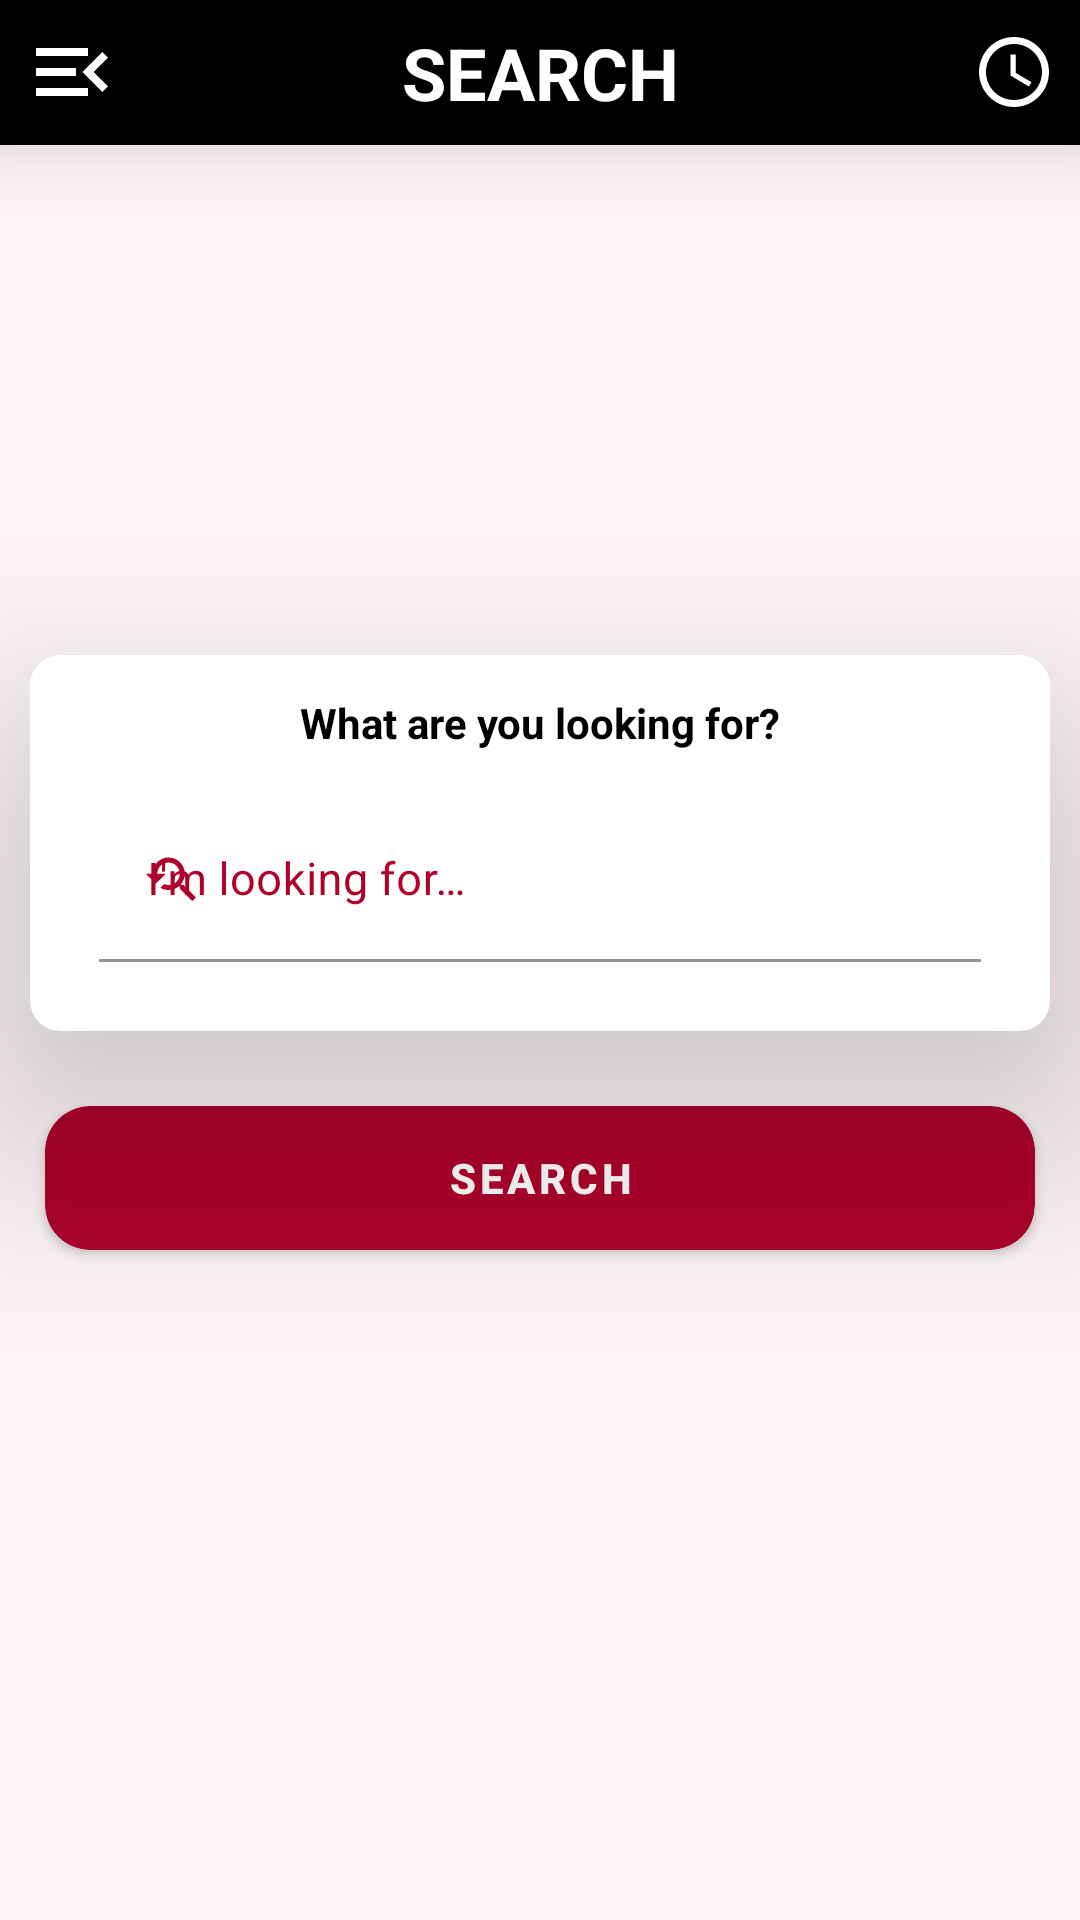

Point at icon controls on the screen. Image size 1080 x 1920, points as [x,y].
menu: [72,72]
